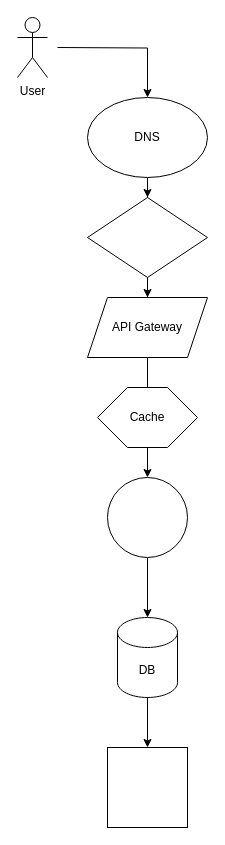
The diagram is 225 pixels wide and 845 high, and some of its shapes have lost their labels. Each missing label, with the box of its shape:
Load Balancer: (86, 196, 208, 278)
Message: (106, 746, 188, 828)
Services: (106, 476, 188, 558)
